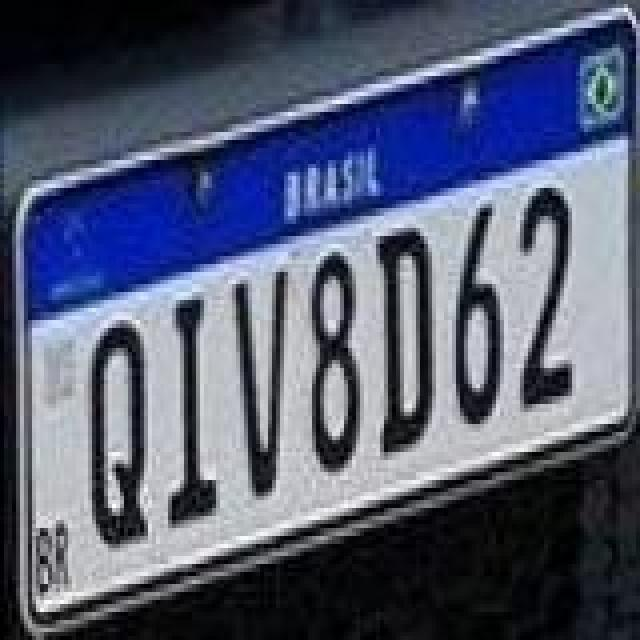2: (518, 180, 574, 412)
6: (450, 200, 506, 432)
8: (306, 246, 362, 474)
D: (374, 222, 438, 458)
I: (166, 294, 222, 538)
Q: (84, 314, 152, 550)
V: (230, 266, 286, 502)
